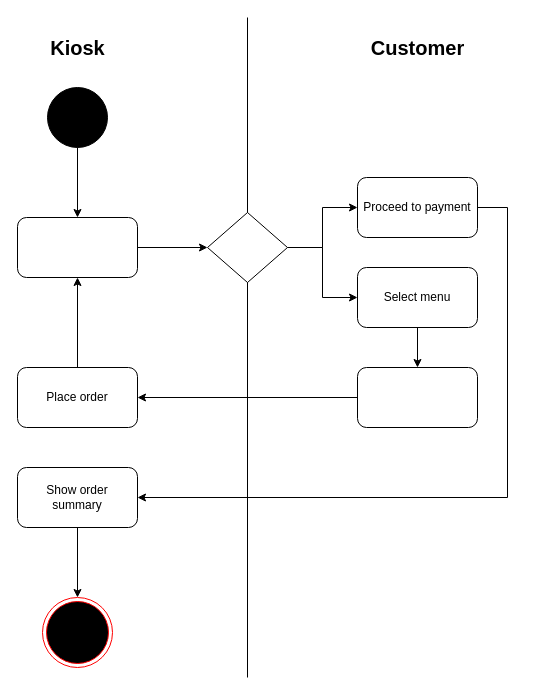
This 533x696 diagram has some shape labels left out. Here are the shapes that lost their labels. From the top down, the centre of each, then its label:
At pixel 77 247: "Show menu".
At pixel 417 397: "Enter quantity".
